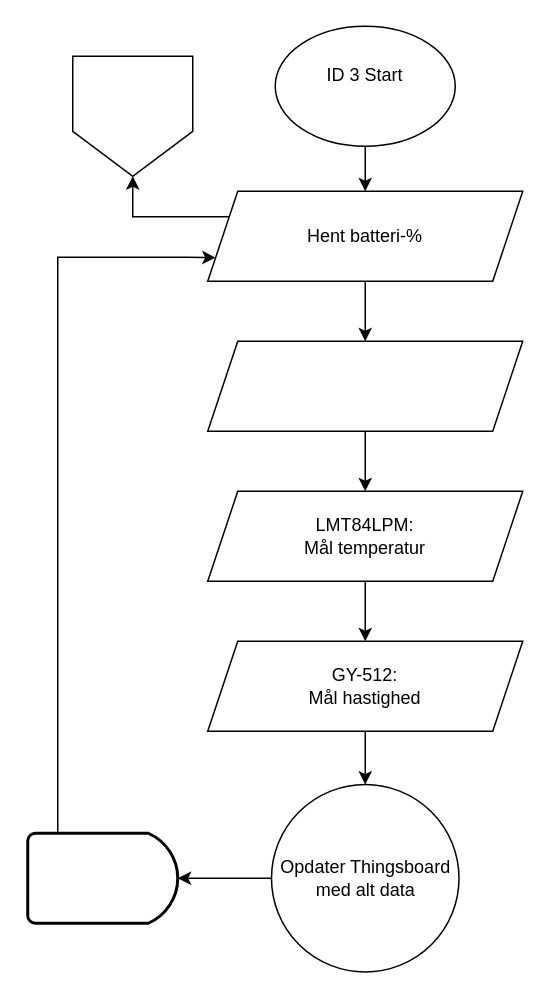
Some shapes in this 549 by 999 pixel diagram are drawn without their labels. Here are the shapes that lost their labels. From the top down, the box of each, then its label:
(71, 55, 193, 176): ID 1
(206, 340, 523, 431): Hent GPS informationer: (Længdegrad, breddegrad, retning)
(26, 831, 178, 924): Vent 30 sekunder
